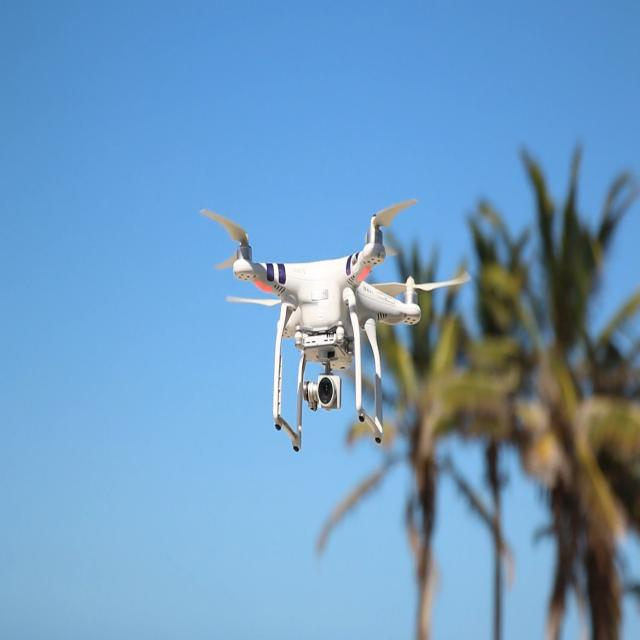Drone: (176, 182, 475, 453)
